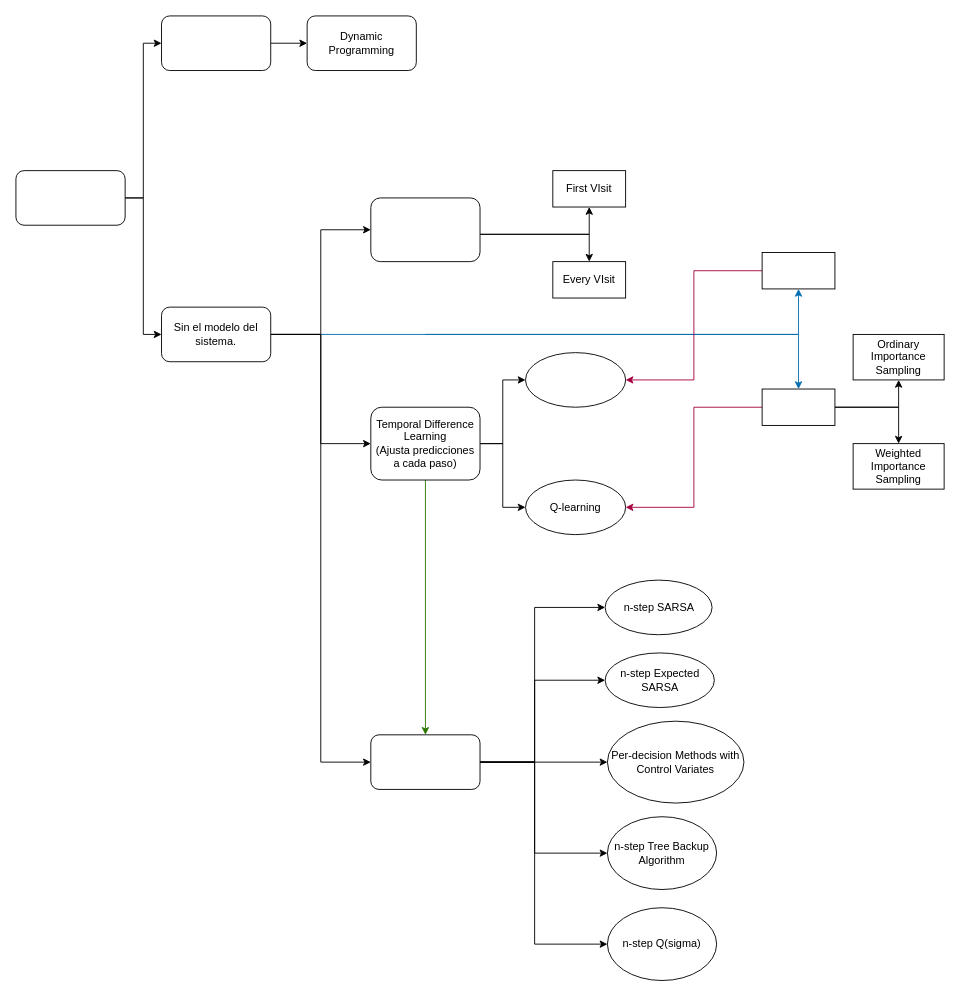
Image size: 960x996. Some labels were removed from this diagram. The shapes that lost their labels are listed below. From the top down, each one's centre as x and y in pixels, then its label:
point 216,43: Con el modelo del sistema. Conoces P y R
point 70,197: Markov Decision Process
point 425,229: Métodos de Monte Carlo (Episodios, G estimado al final)
point 798,270: On Policy
point 575,379: SARSA
point 798,406: Off Policy
point 425,761: n-step TD Methods
